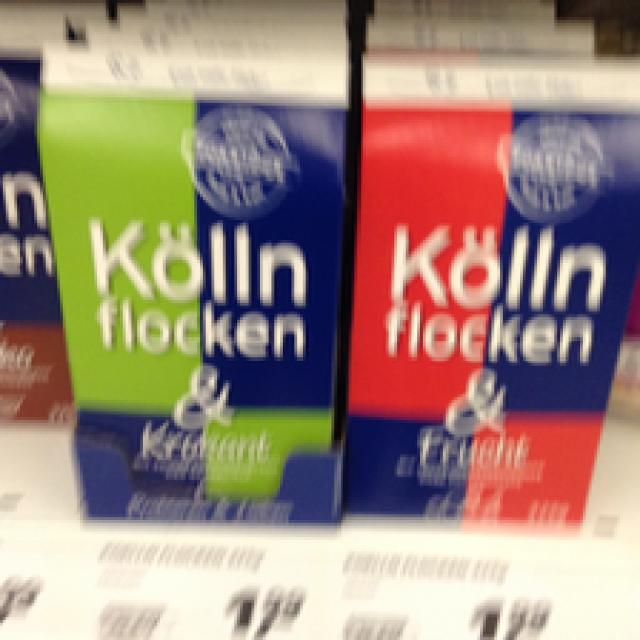groceries: (31, 74, 346, 517), (349, 103, 637, 528)
